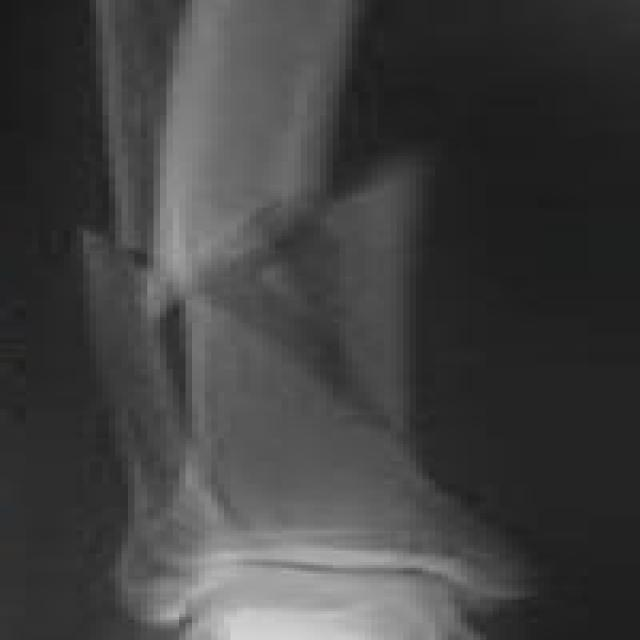Broken: (119, 156, 519, 589), (131, 0, 357, 323)
